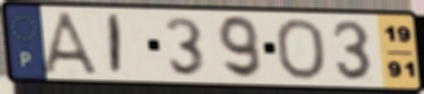3: (331, 18, 377, 83), (163, 15, 208, 77)
9: (215, 14, 266, 81)
A: (39, 10, 106, 78)
I: (107, 12, 123, 77)
O: (273, 17, 329, 82)
